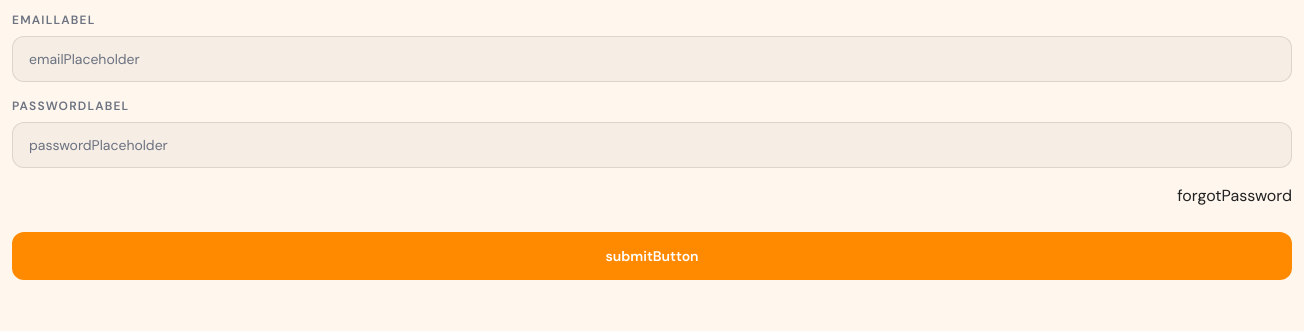
Test case: LoginForm › shows a server error message when the action returns one
In the field labelled "emailLabel": point(652, 59) [12, 36, 1292, 82], type "bad@example.com"
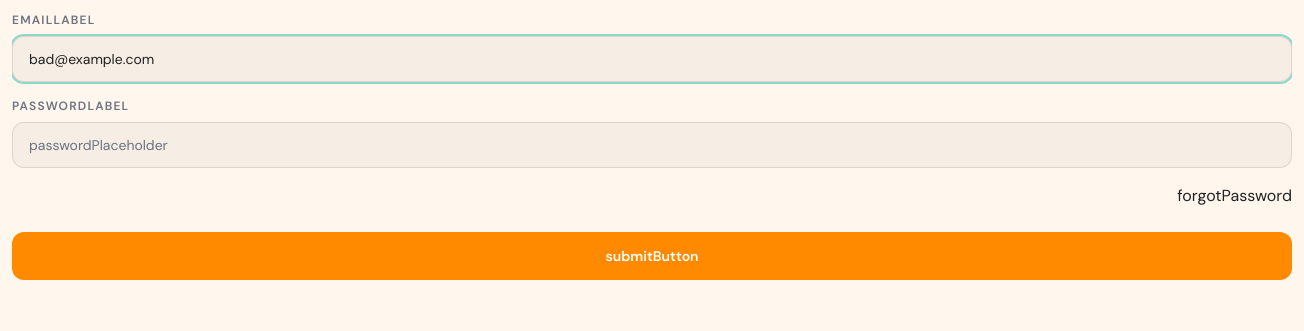
In the password field labelled "passwordLabel": point(652, 145) [12, 122, 1292, 168], type "wrongpass"
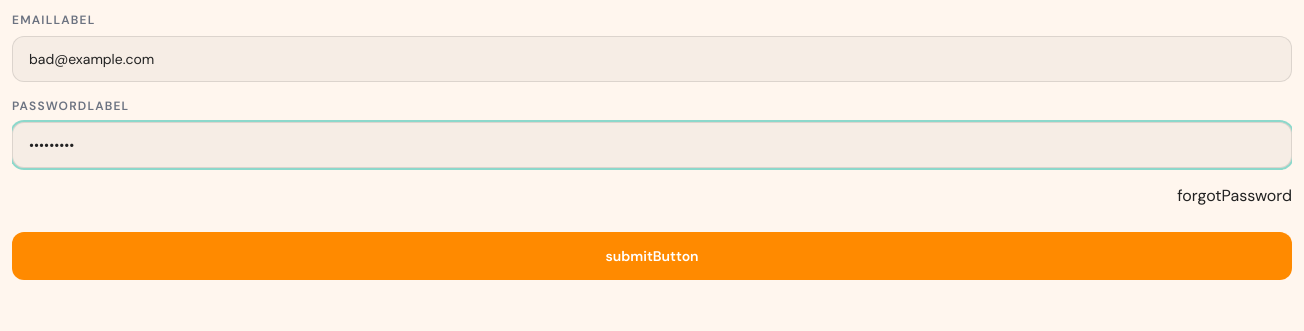
Click the button "submitButton": point(652, 256) [12, 232, 1292, 280]
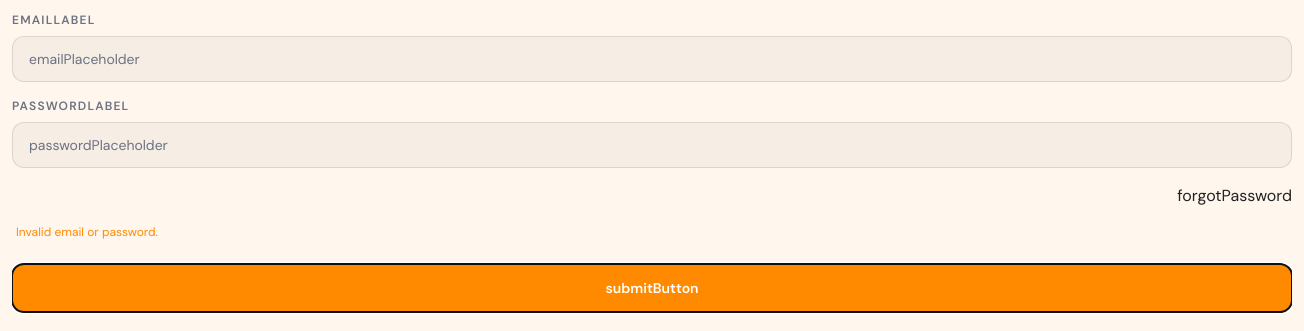
Now the text "Invalid email or password." is shown, box [16, 224, 158, 240]
